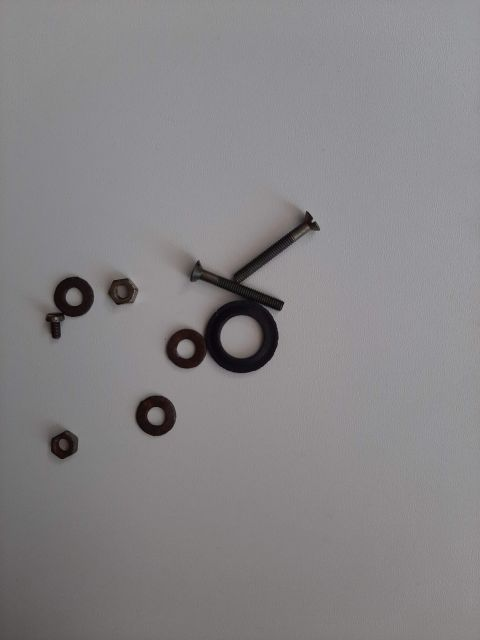nakretka: (75, 265, 135, 325), (35, 415, 95, 455)
podkladka: (185, 295, 305, 385), (135, 305, 205, 385), (105, 385, 185, 445), (35, 265, 95, 325)
sruba: (215, 185, 335, 295), (185, 245, 305, 325), (15, 305, 65, 355)
